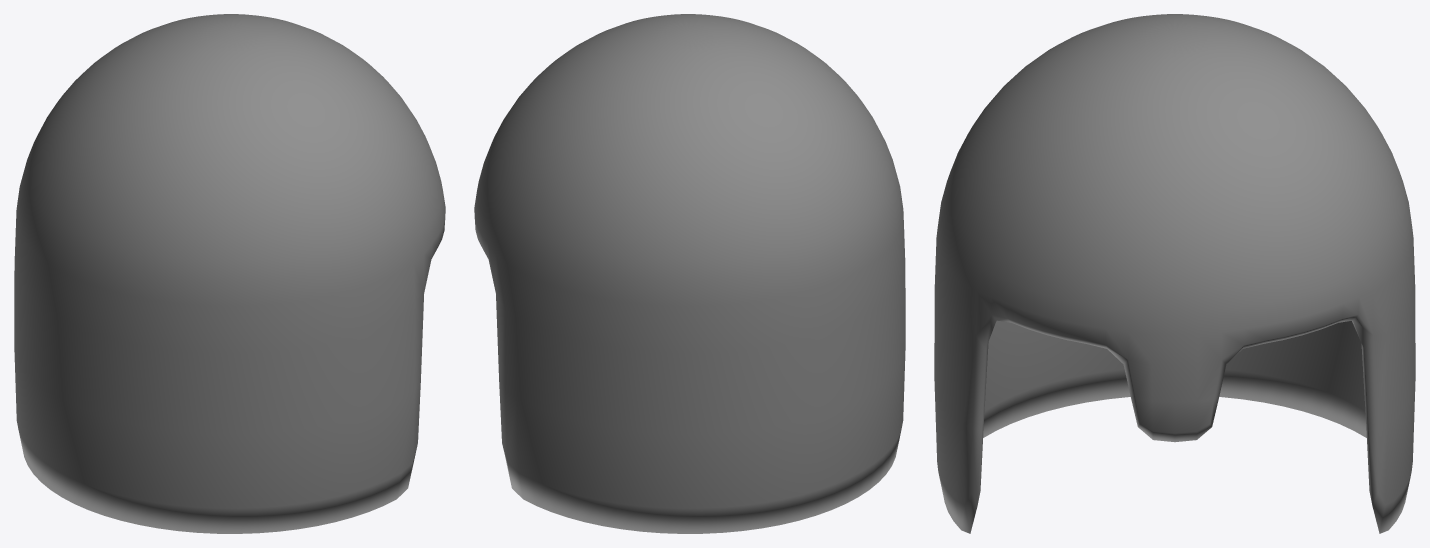
Rendered from Helmet.fbx.
The picture shows the model from 3 angles, left to right: view 1: azimuth 30°, elevation 25°; view 2: azimuth 150°, elevation 25°; view 3: azimuth 270°, elevation 25°; orthographic projection. The views are drawn at different scales.
Visible parts, largest first — view 1: Sphere; view 2: Sphere; view 3: Sphere.
Boxes of the visible parts, x1=… form: Sphere: x1=14, y1=14, x2=445, y2=533; Sphere: x1=474, y1=14, x2=905, y2=533; Sphere: x1=934, y1=14, x2=1415, y2=533.
Bounding box in the file's own units: 198 × 208 × 198.
